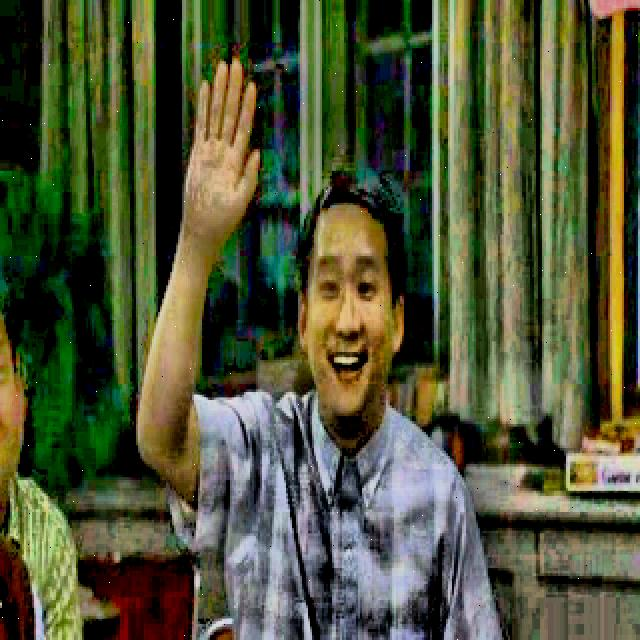T: (120, 37, 508, 640)
